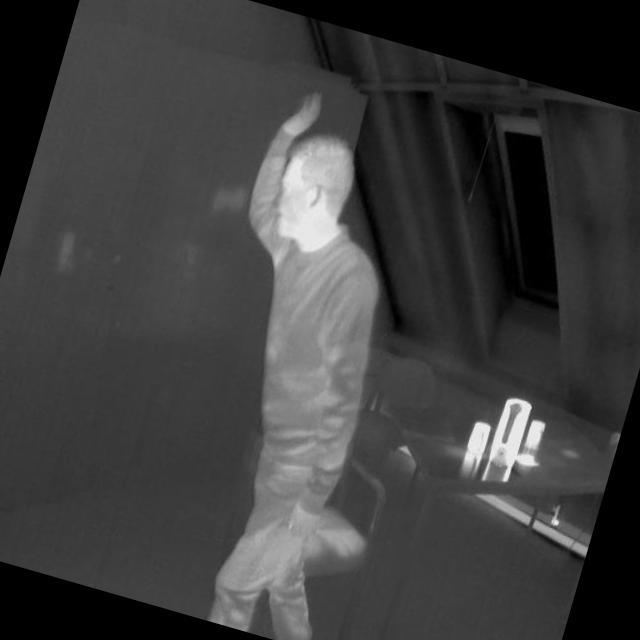person: (125, 75, 455, 640)
